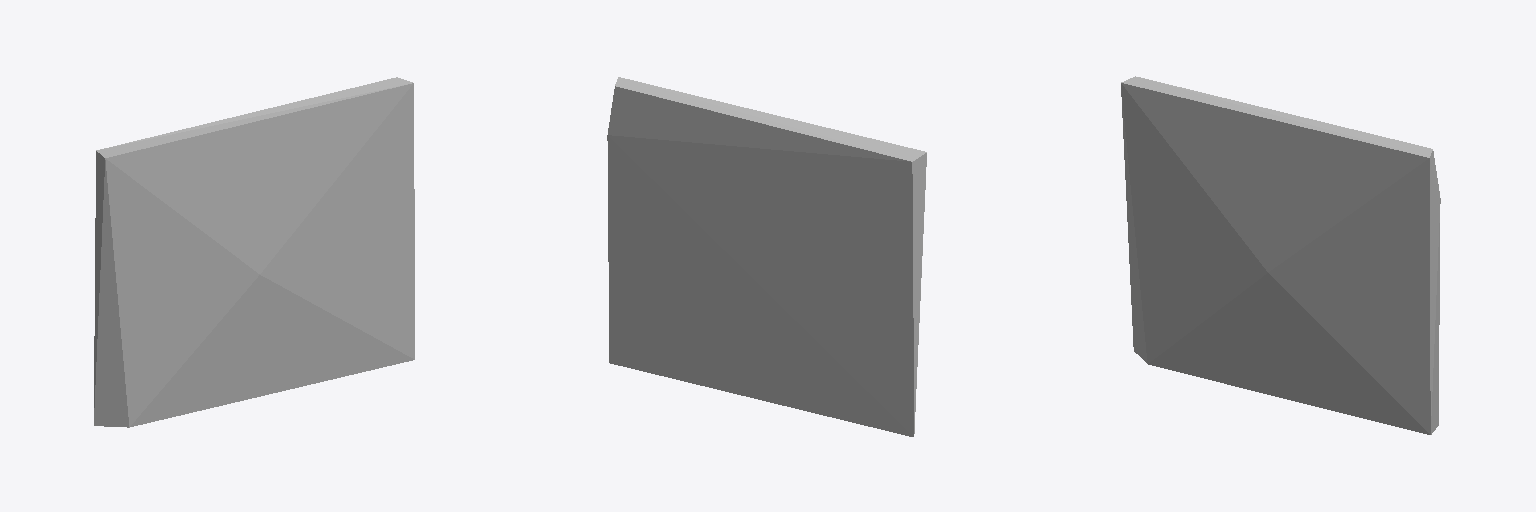
File: sim_ecub_1-1_l_foot_rear.obj
3 renders of one model, left to right at view 1: azimuth 30°, elevation 25°; view 2: azimuth 150°, elevation 25°; view 3: azimuth 330°, elevation 25°, orthographic.
Size of the model in its own units: 117 by 99.87 by 10.41.